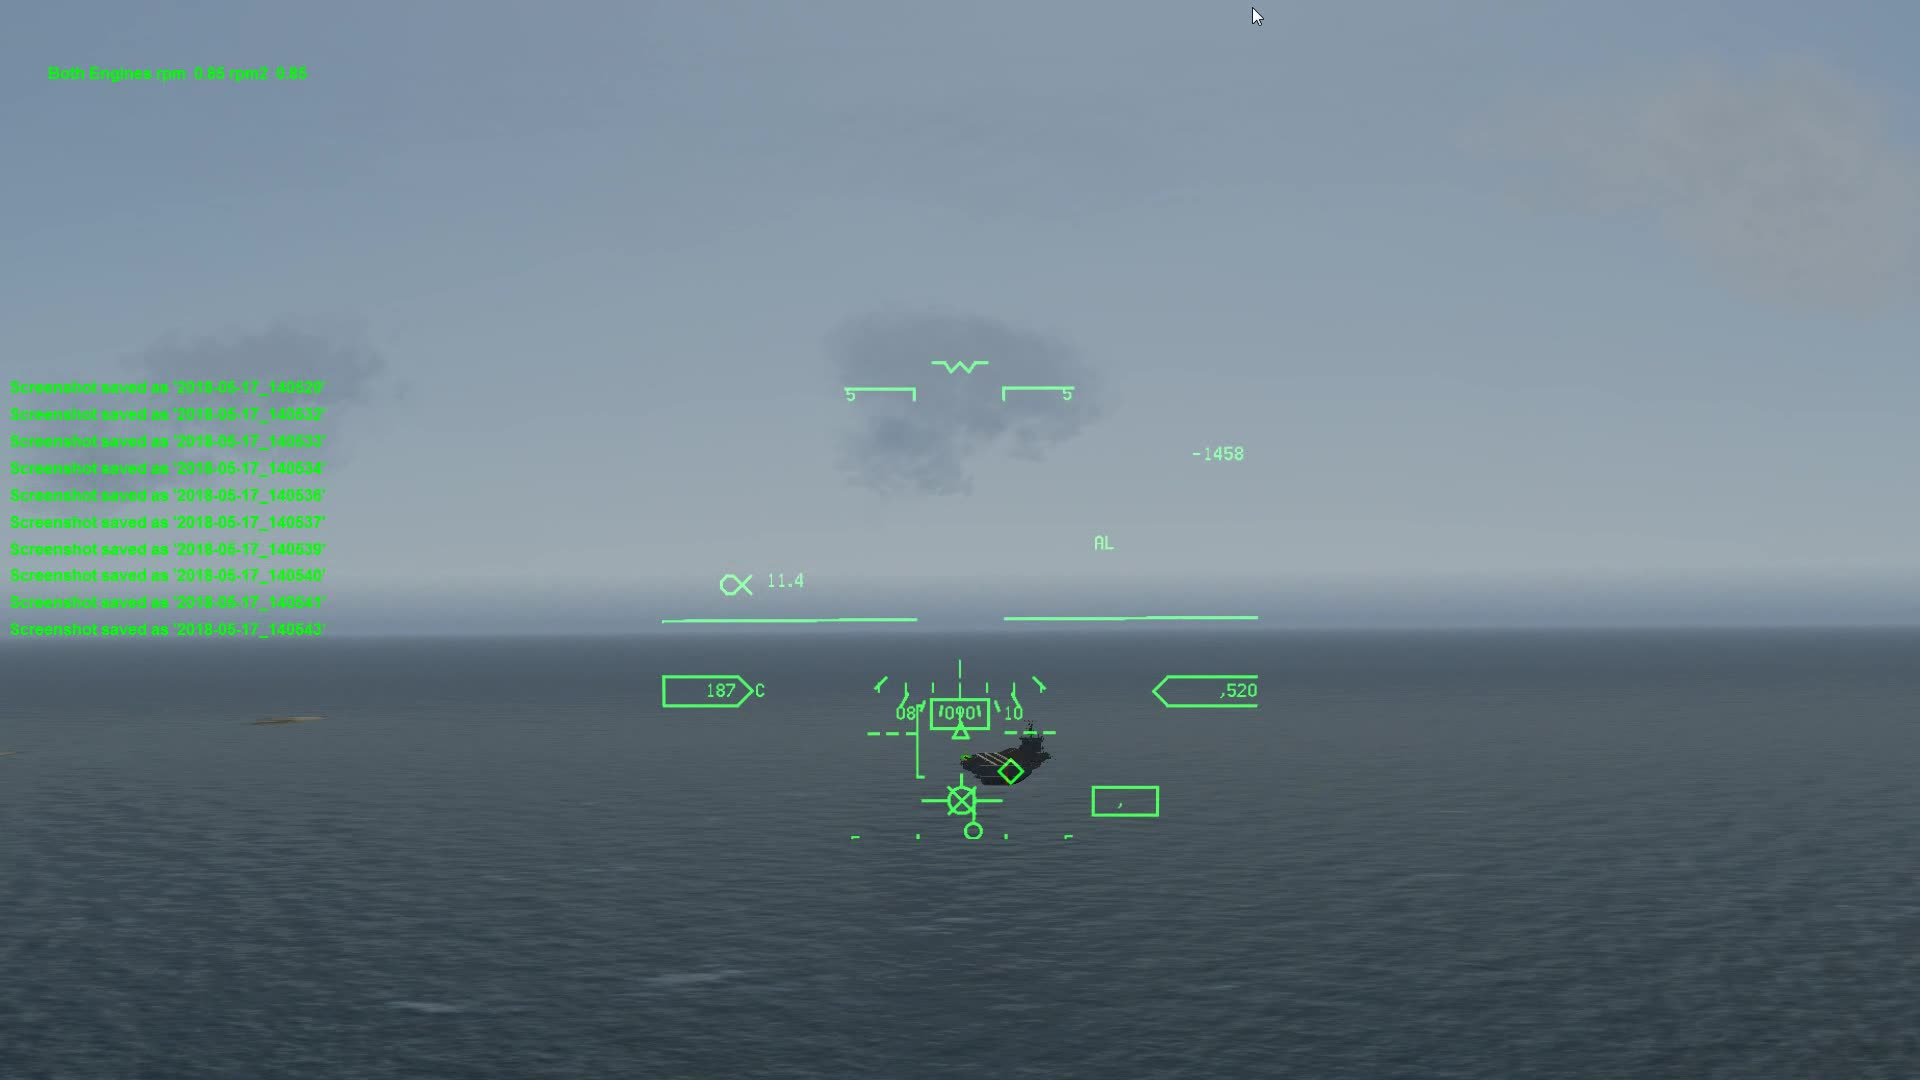speed vector: (922, 767, 1005, 818)
